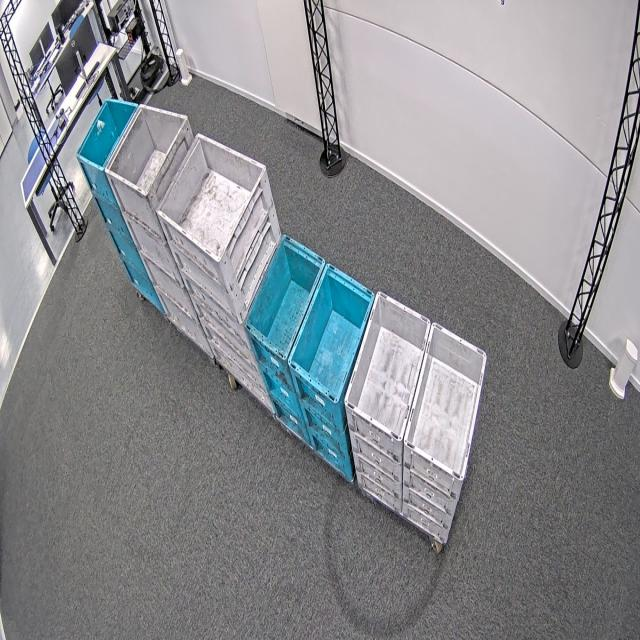Roll3G: (156, 132, 266, 263)
Roll8G: (344, 290, 487, 483)
RollB4: (104, 103, 190, 199), (75, 97, 139, 172)
RollB8: (243, 231, 376, 403)
